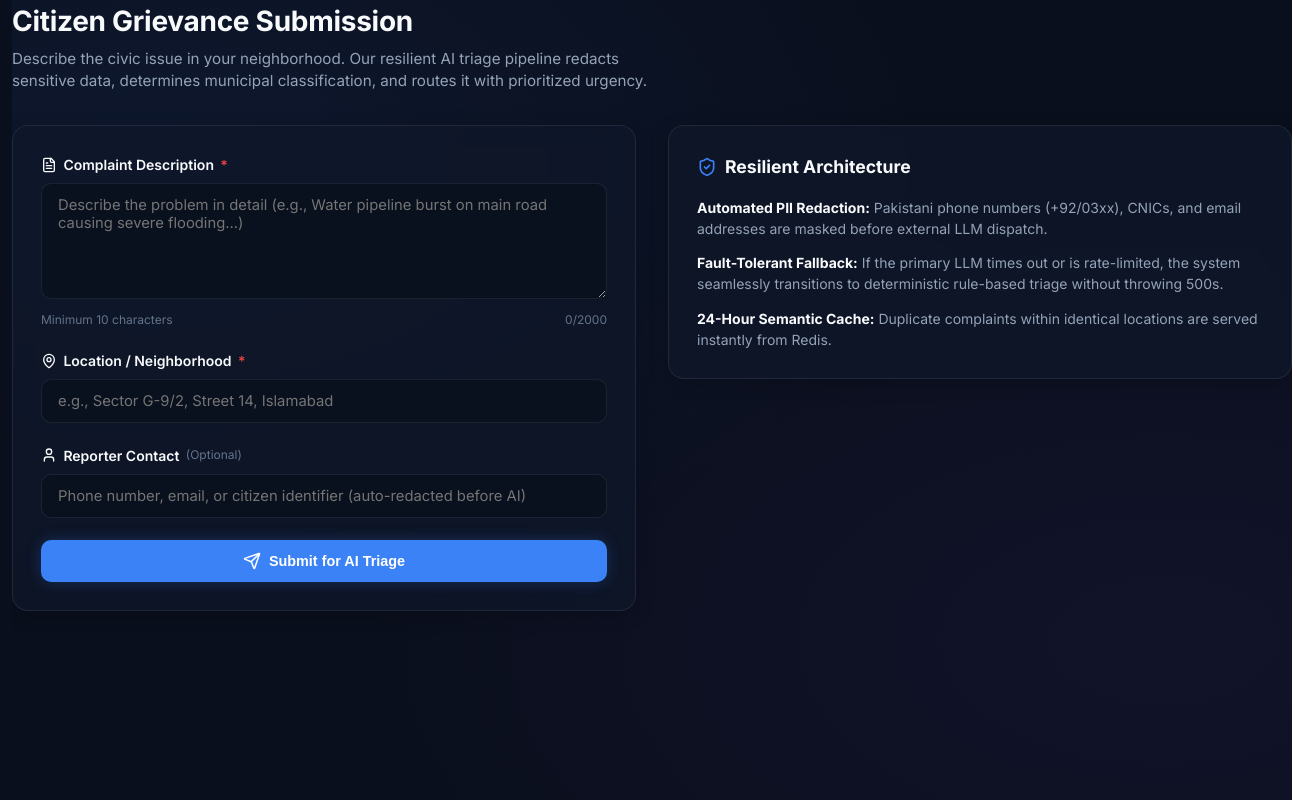
Test: SubmitView Client-Side Validation › enforces minimum length constraints for text and location
The width and height of the screenshot is (1292, 800).
Replace the text in the text box labelled "Complaint Description *" with "short" at coordinates (324, 241), box [41, 183, 607, 299]
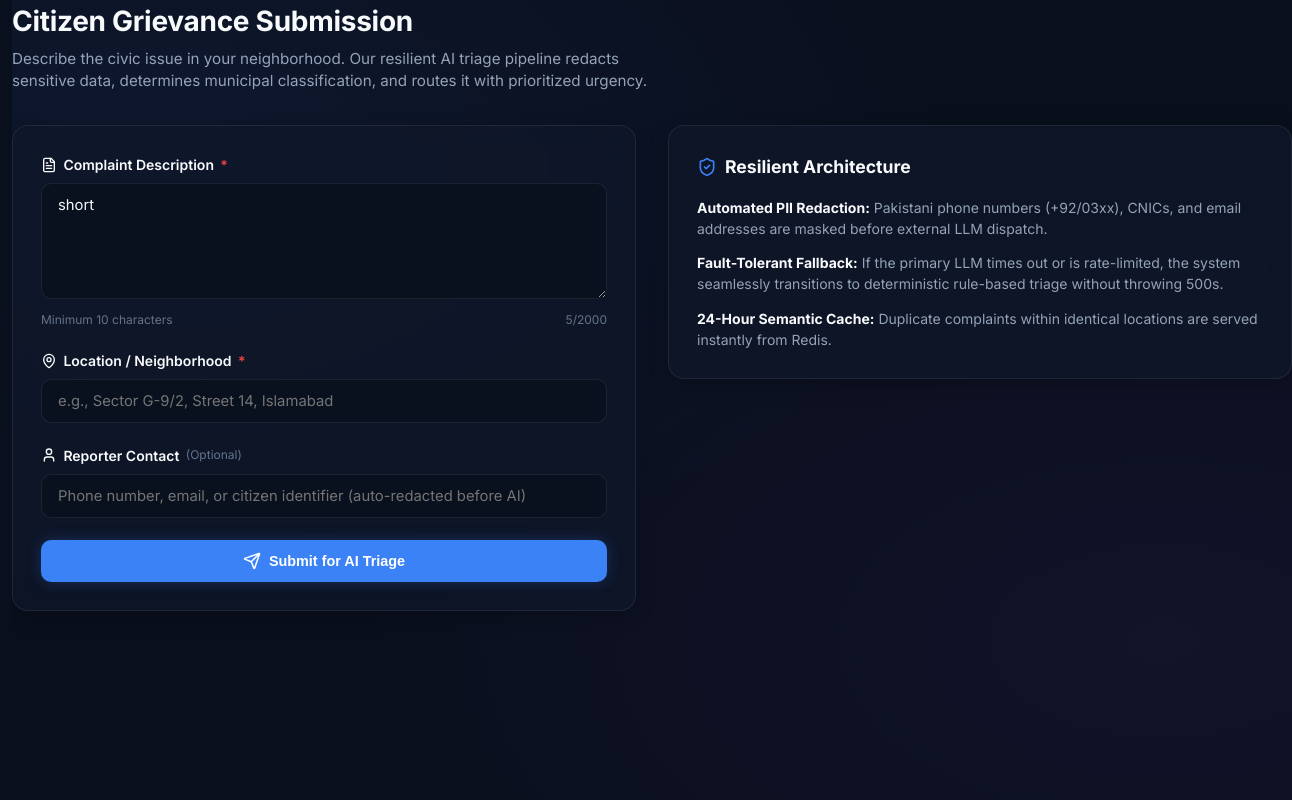
Type "G9" into the field labelled "Location / Neighborhood *".
click(324, 401); type("G9")  # box [41, 379, 607, 423]
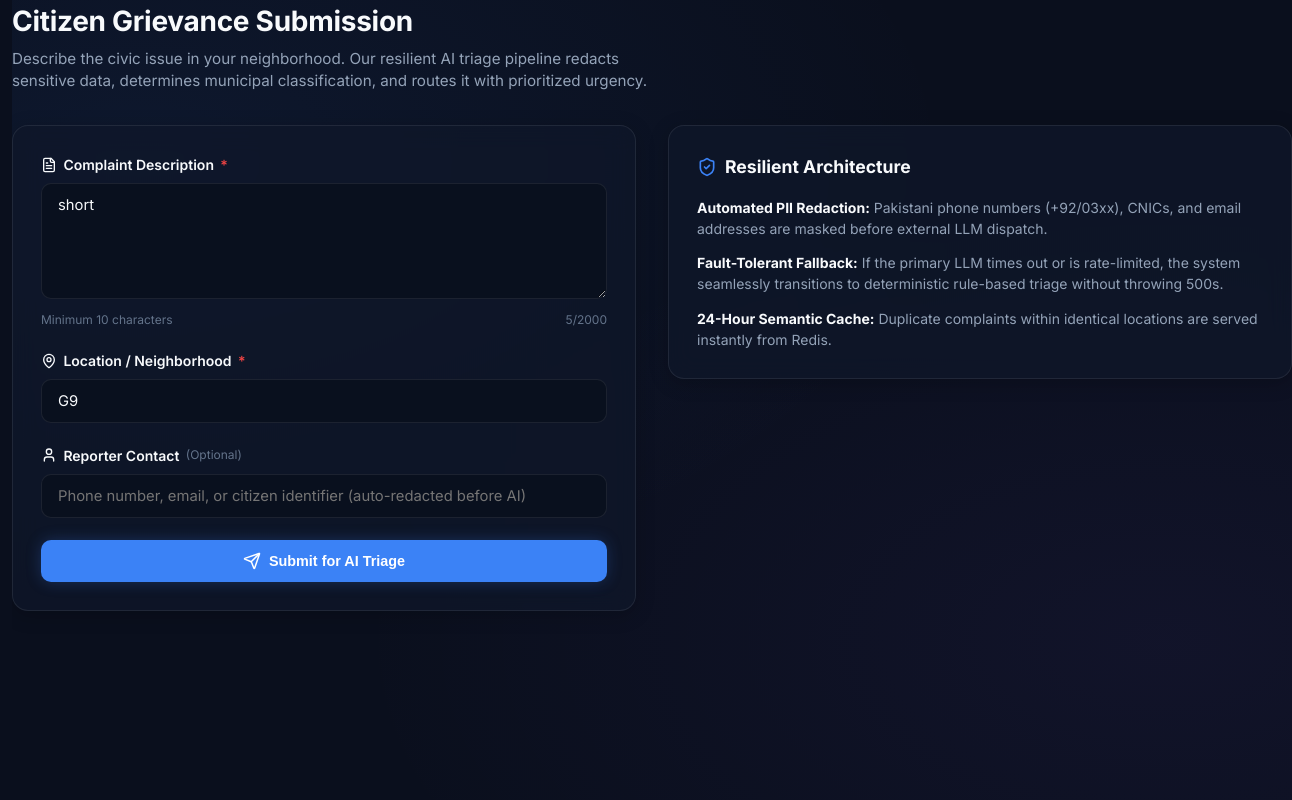
Click the button "Submit for AI Triage".
click(324, 561)  # box [41, 540, 607, 582]
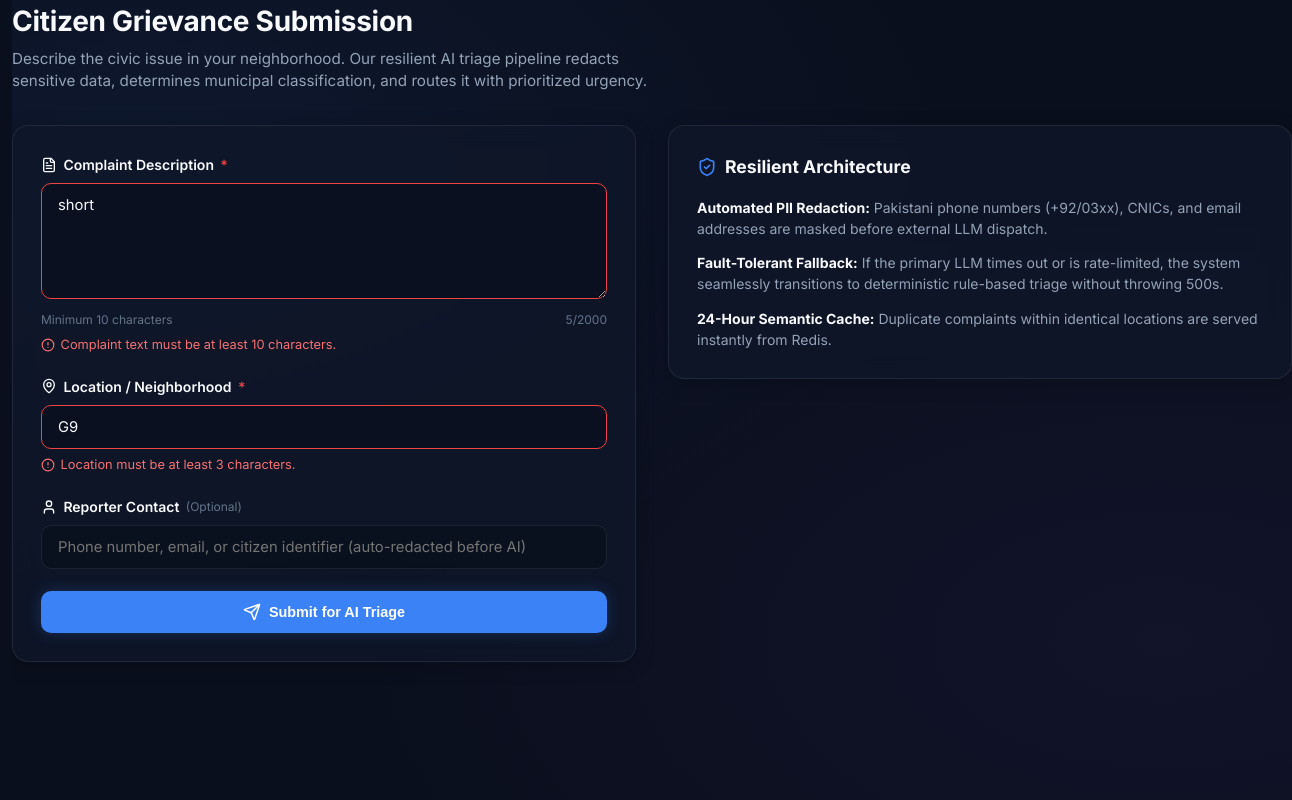
Expected: the text "Complaint text must be at least 10 characters." is shown, [41, 337, 336, 352]
Expected: the text "Location must be at least 3 characters." is shown, [41, 457, 296, 472]
